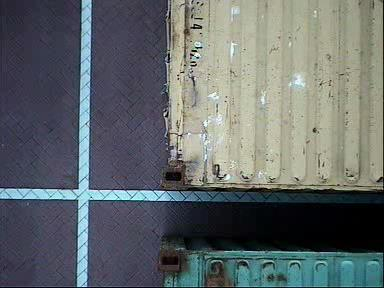groundmarker_2: (167, 1, 207, 59)
